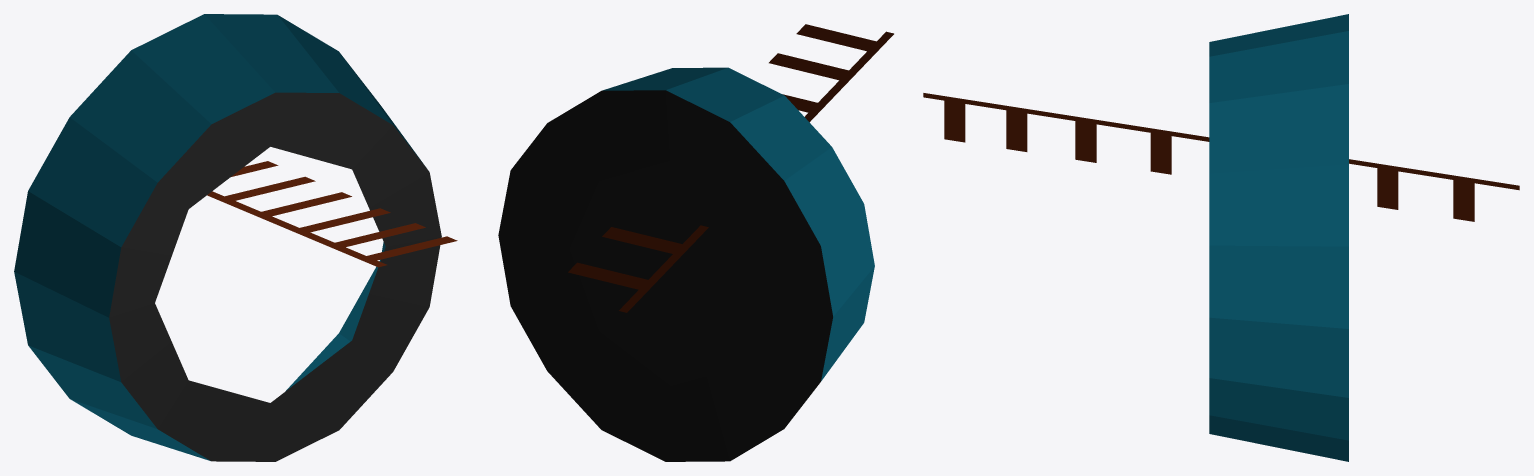
Rendered from mine1d.obj.
3 renders of one model, left to right at view 1: azimuth 30°, elevation 25°; view 2: azimuth 150°, elevation 25°; view 3: azimuth 270°, elevation 25°, orthographic. The views are drawn at different scales.
Visible parts, largest first — view 1: Cube, Plane.002; view 2: Cube, Plane.002; view 3: Cube, Plane.002.
Part boxes in pixels (<box>): Cube: <box>14,14,441,461</box>; Plane.002: <box>207,161,457,267</box>; Cube: <box>498,67,874,461</box>; Plane.002: <box>568,24,893,312</box>; Cube: <box>1209,14,1348,461</box>; Plane.002: <box>923,93,1519,221</box>.
Bounding box in the file's own units: 1.61 × 1.71 × 2.23.
